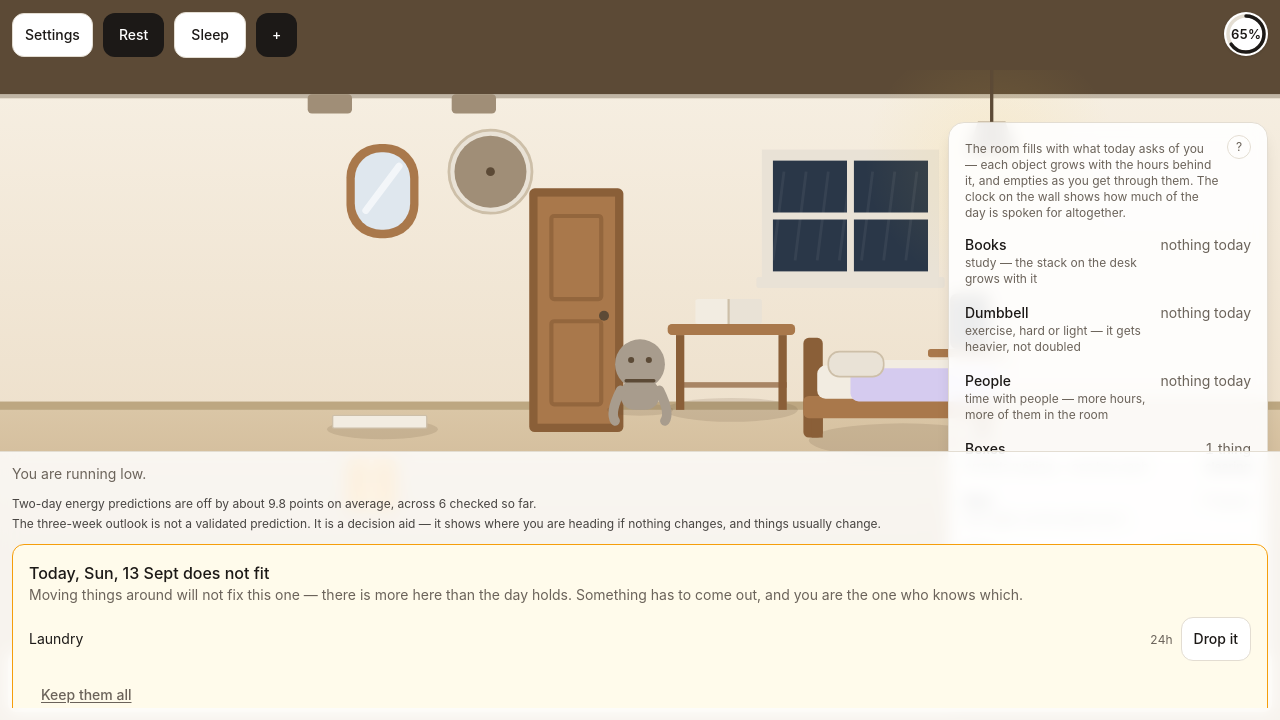
Test: the breakdown, and the depleted student who must not be handed it › hands the same student the breakdown once low-energy mode is turned off
The image size is (1280, 720).
Expected: the element with test id "overfull" is shown, [12,544,1268,708]
Click the button with test id "open-settings": (52, 35) [12,13,93,57]
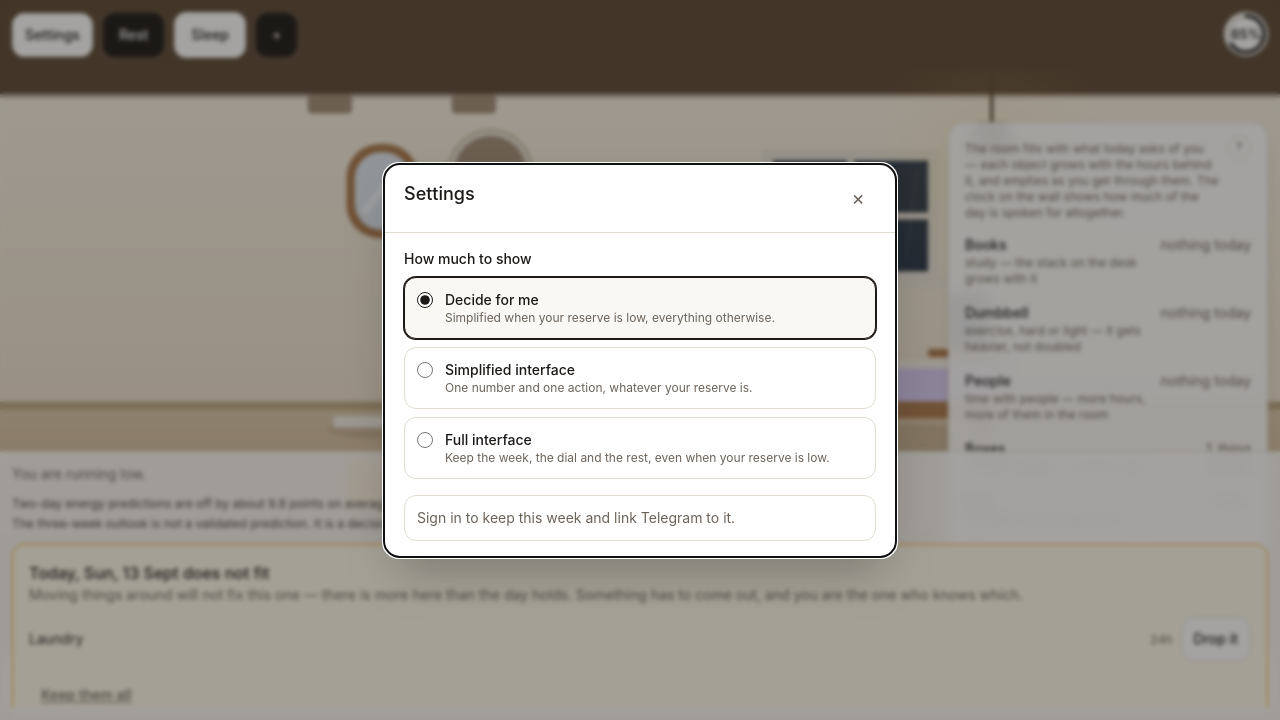
Click the radio button labelled "Full interface": (425, 440) [417,432,433,448]
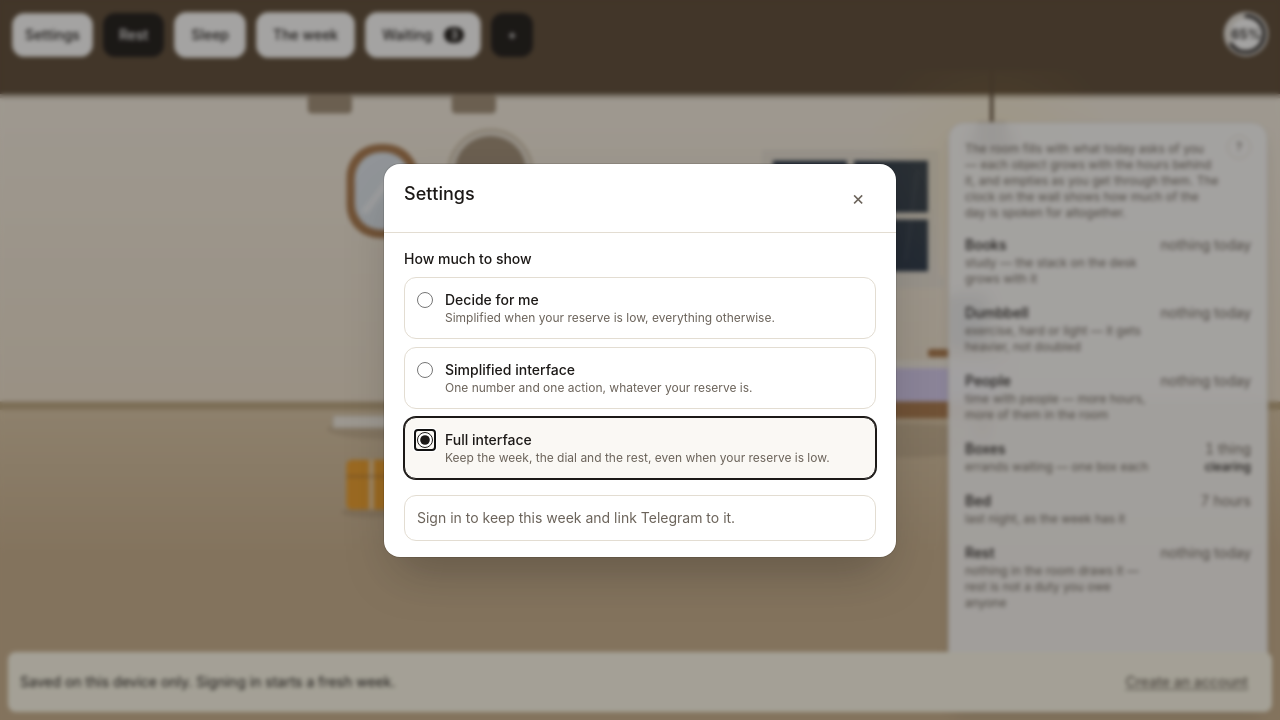
Click the button named "close": (858, 198) [836,176,880,220]
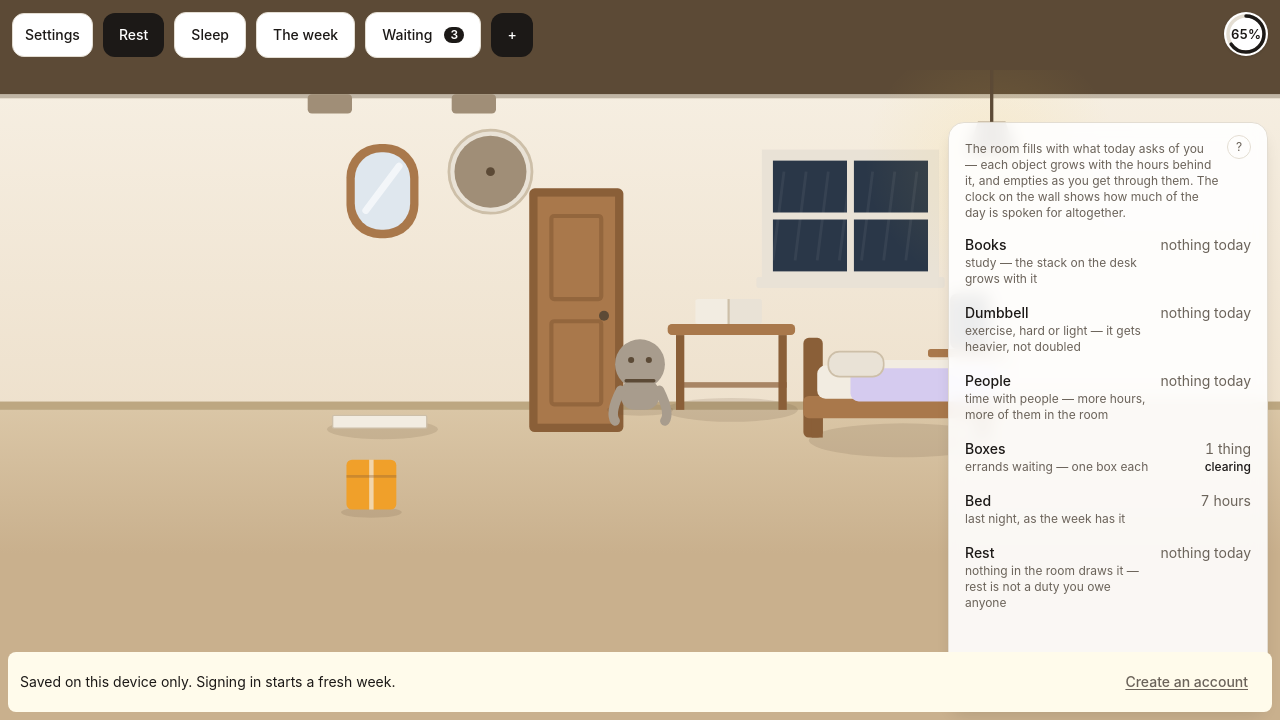
Expected: the button with test id "open-week" is shown, [256,12,355,58]
Click the button with test id "room-gauge": (1246, 34) [1224,12,1268,56]
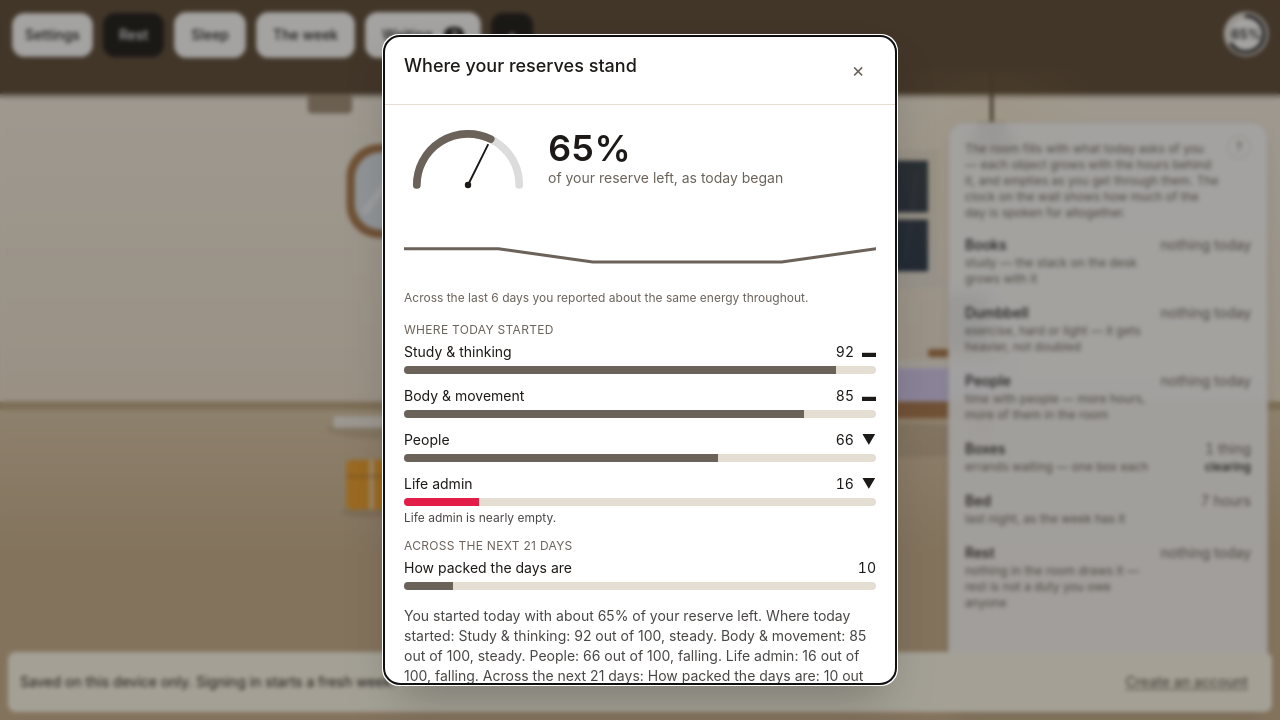
Expected: the dialog "reserves" is shown, [384,36,896,684]
Expected: the element named "Study & thinking" is shown, [404,366,876,374]
